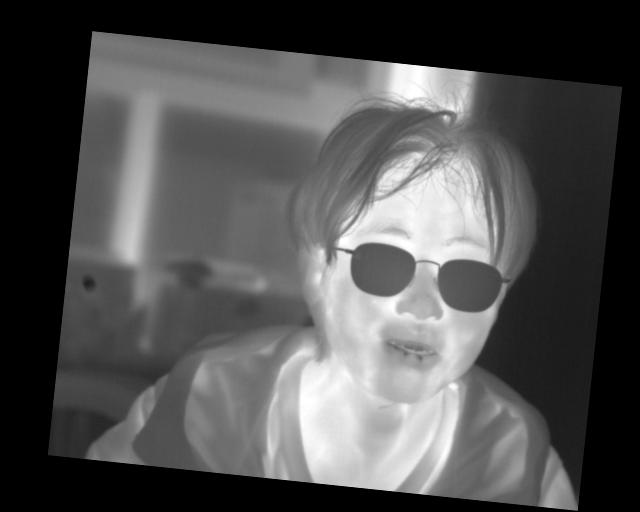face: (280, 85, 551, 419)
